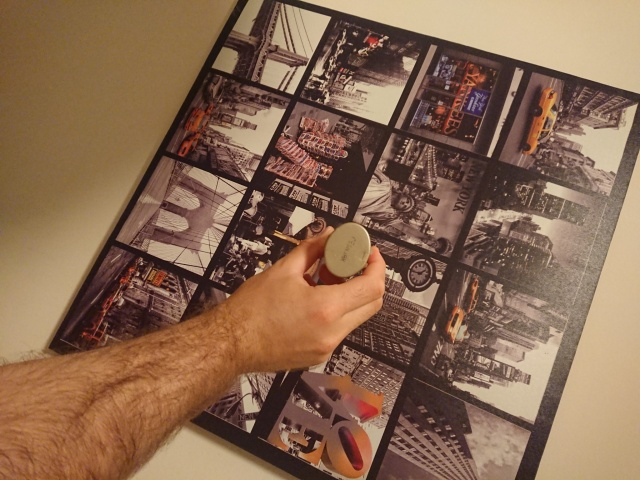Kotanyi Garlic Granules 70g: (323, 220, 372, 279)
